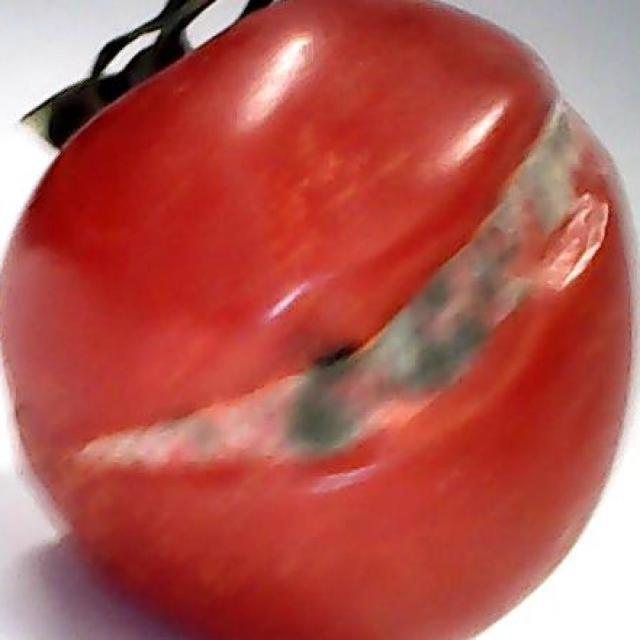Cracking Fruit: (47, 53, 408, 351)
